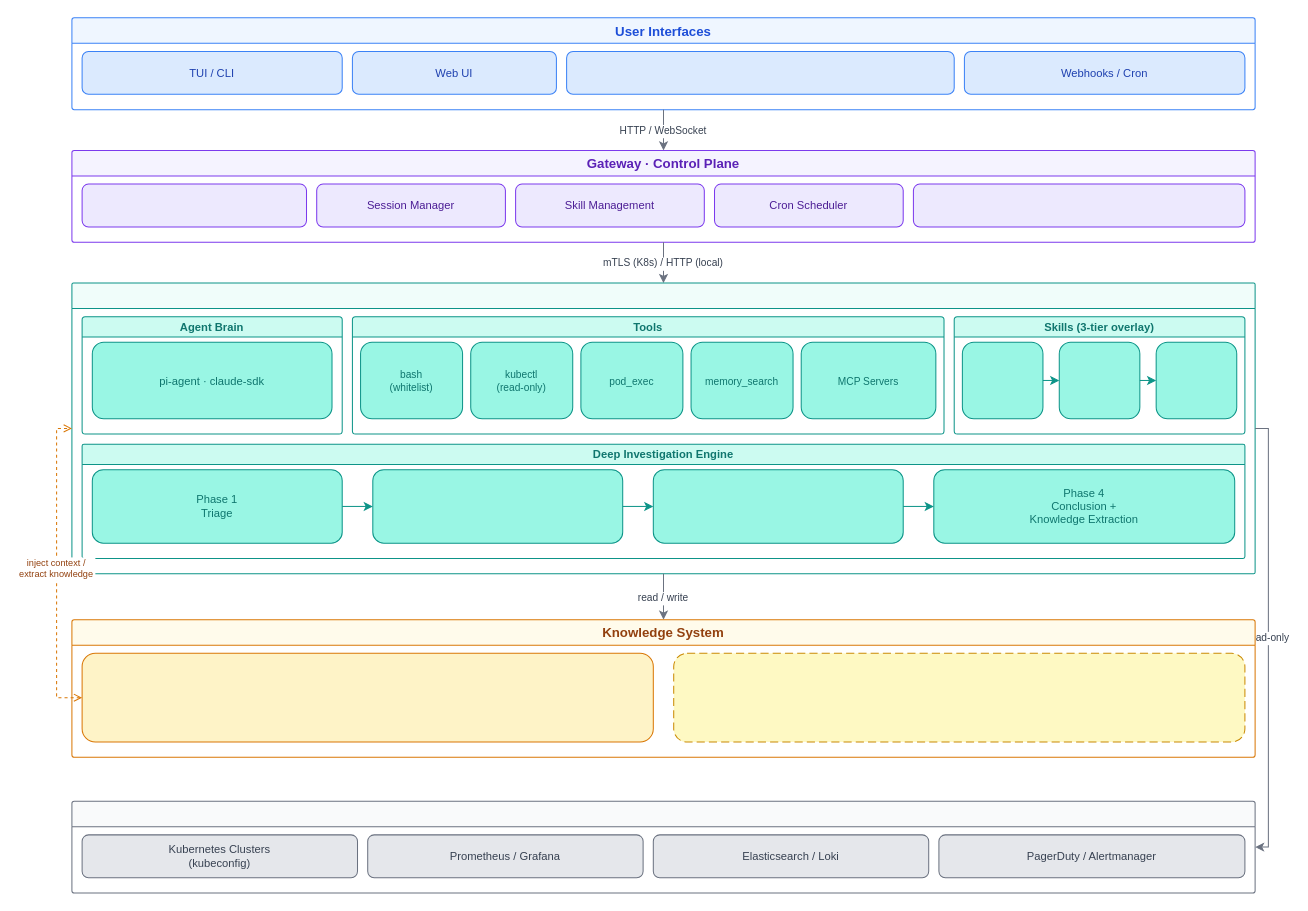
Some shapes in this 1308 by 911 pixel diagram are drawn without their labels. Each missing label, with the box of its shape:
AgentBox · Execution Plane (one per user — K8s Pod or in-process): (71, 282, 1255, 574)
Auth (JWT / SSO / OIDC): (81, 183, 307, 227)
Core: (961, 341, 1043, 419)
DB: MySQL / SQLite: (912, 183, 1245, 227)
Investigation Memory SQLite + FTS5 + bge-m3 ✓ IM Phase 0-1 complete: (81, 652, 653, 742)
Personal: (1155, 341, 1237, 419)
Phase 2 Hypotheses: (372, 469, 623, 543)
Phase 3 Parallel Validation (3 sub-agents): (652, 469, 903, 543)
Slack / Discord / Telegram / Lark: (566, 50, 954, 94)
Target Infrastructure: (71, 800, 1255, 893)
Team: (1058, 341, 1140, 419)
Team Knowledge Base Qdrant vector DB ⚡ KR0 - in progress: (673, 652, 1245, 742)
